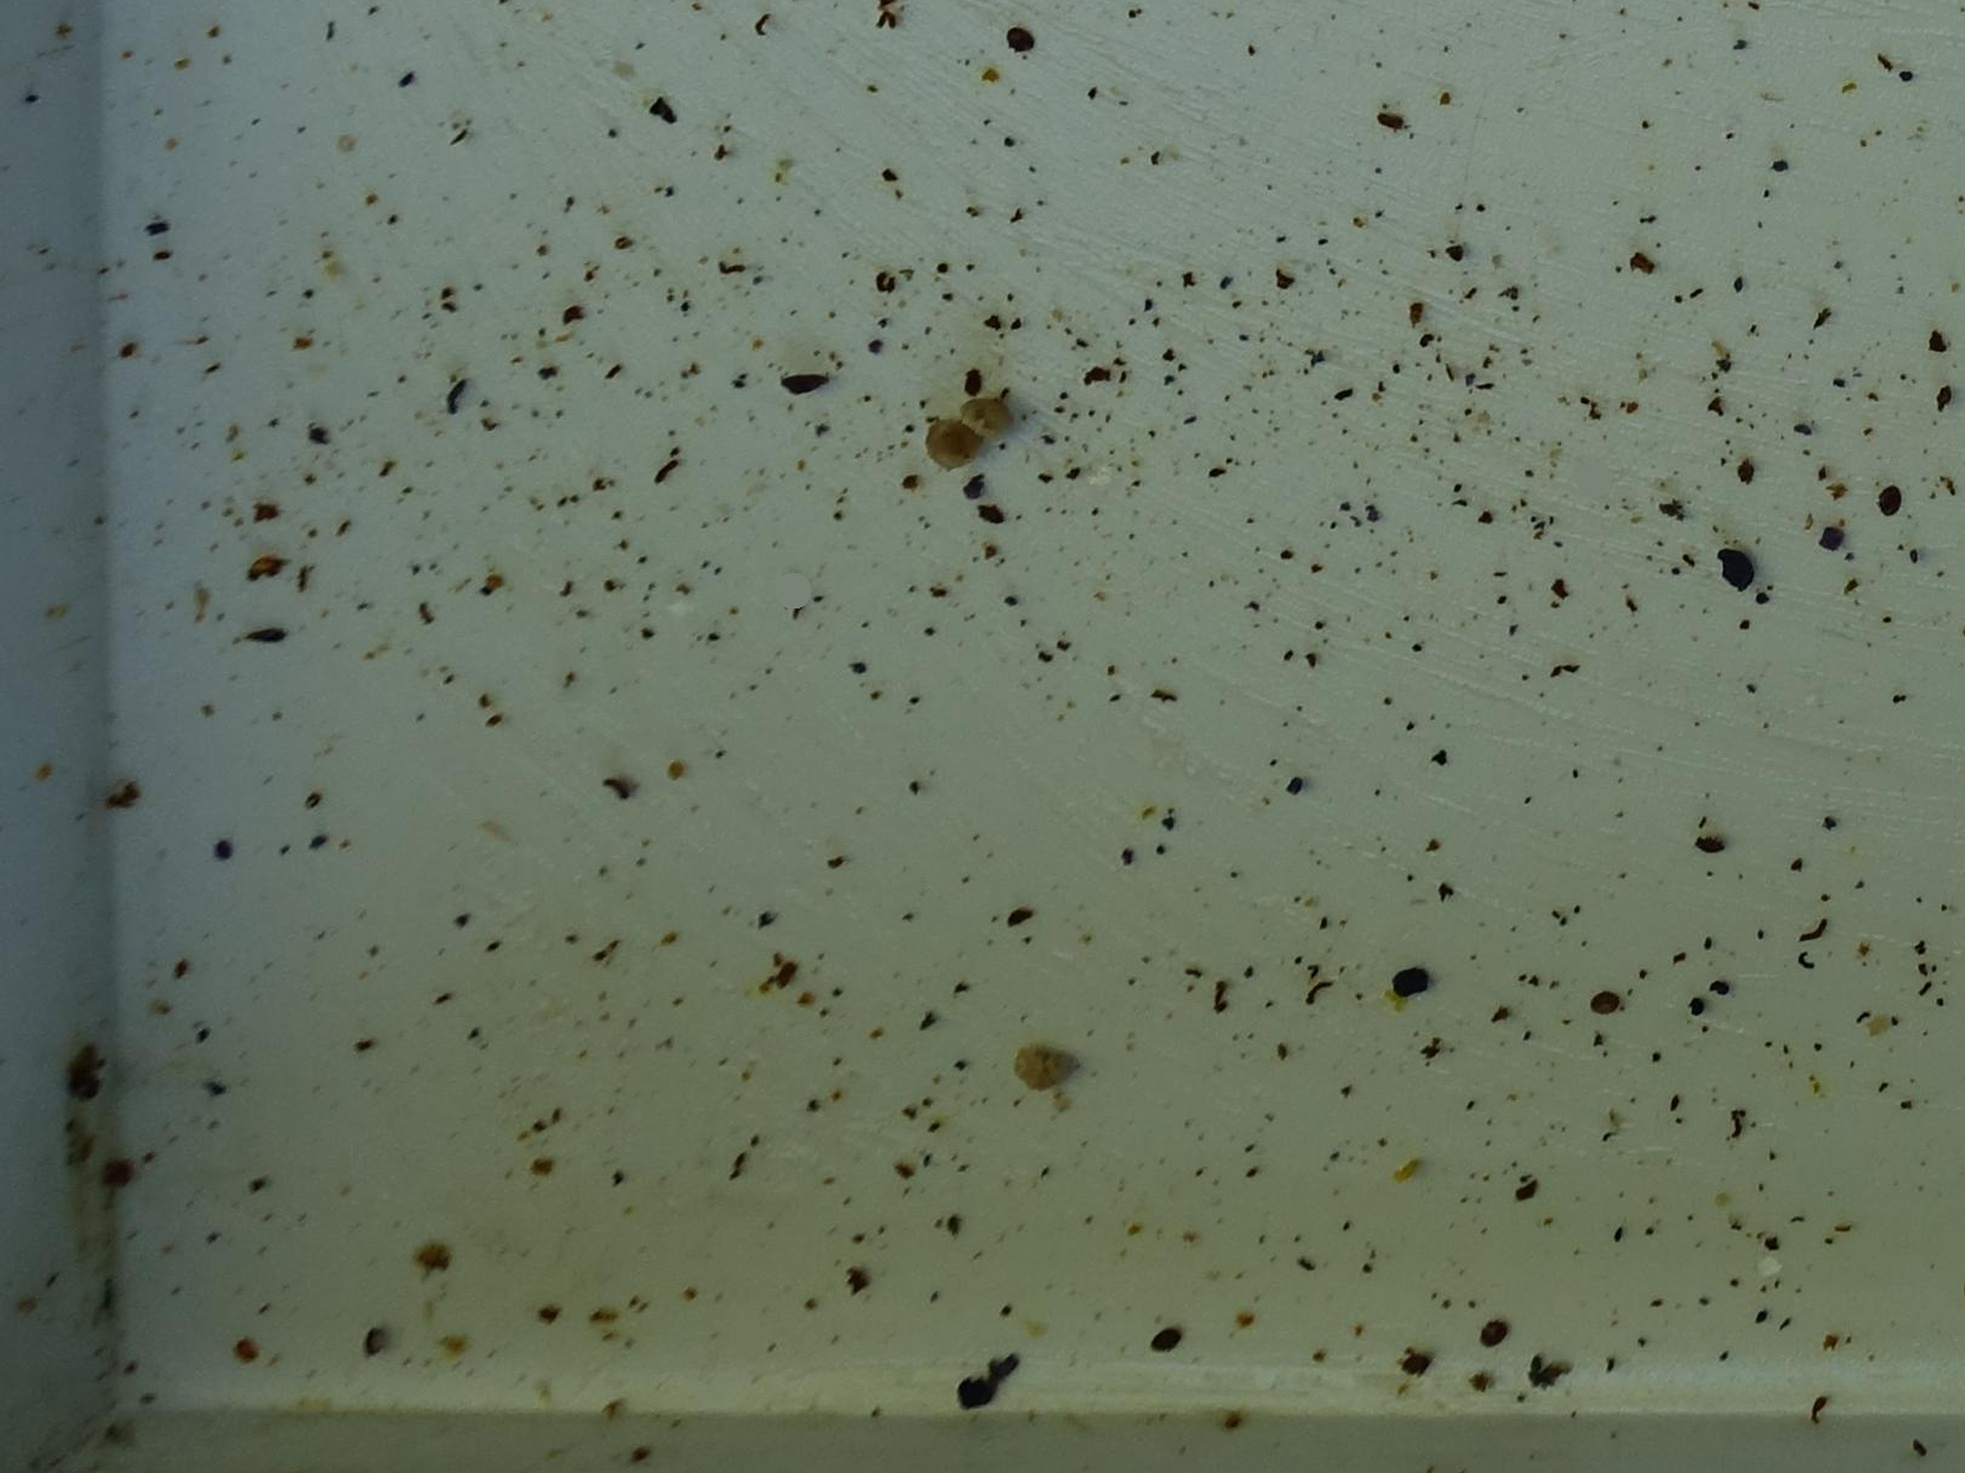Varroa: (1690, 825, 1731, 866), (1153, 1311, 1182, 1355), (1007, 25, 1035, 53), (1481, 1314, 1505, 1343), (1877, 483, 1902, 509), (1597, 989, 1618, 1012)
